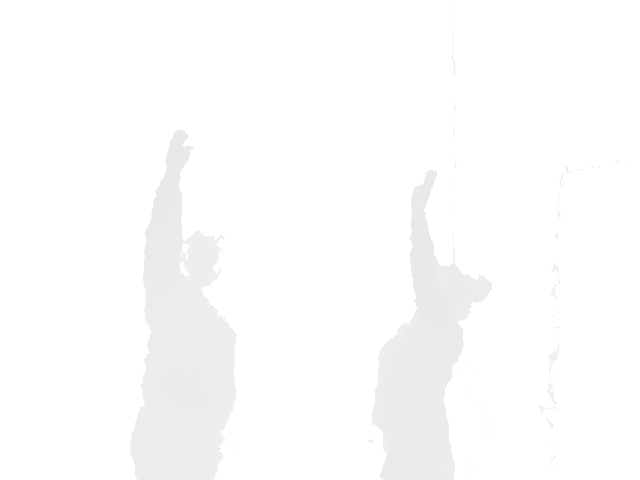hand: (164, 130, 192, 177), (411, 169, 437, 213)
head: (436, 262, 492, 325), (180, 229, 226, 294)
person: (128, 130, 238, 480), (370, 168, 493, 480)
